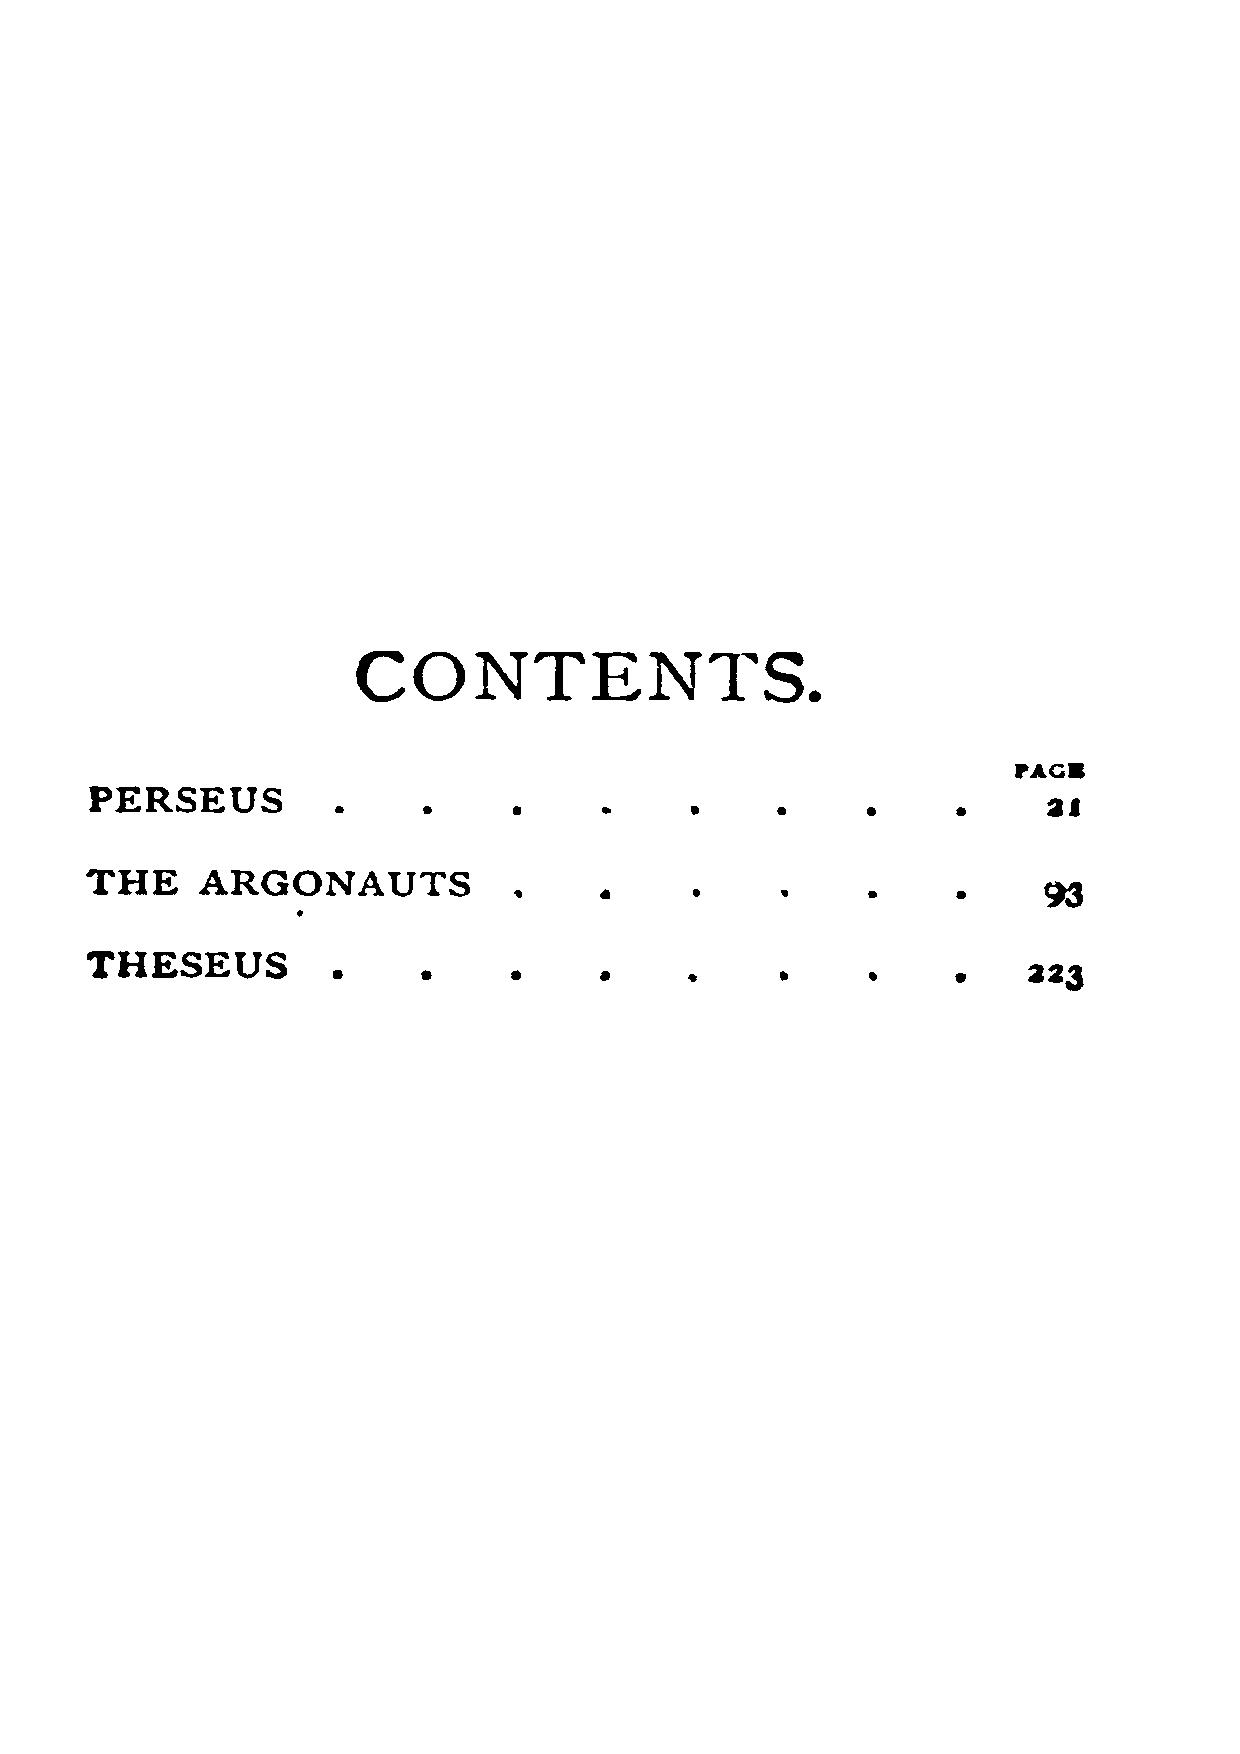TOC_chapter: (72, 851, 476, 909), (78, 773, 293, 820), (83, 945, 289, 980)
TOC_pagenumber: (1019, 945, 1091, 994), (1041, 878, 1092, 917), (1044, 780, 1082, 825)
chapter: (350, 641, 824, 707)
